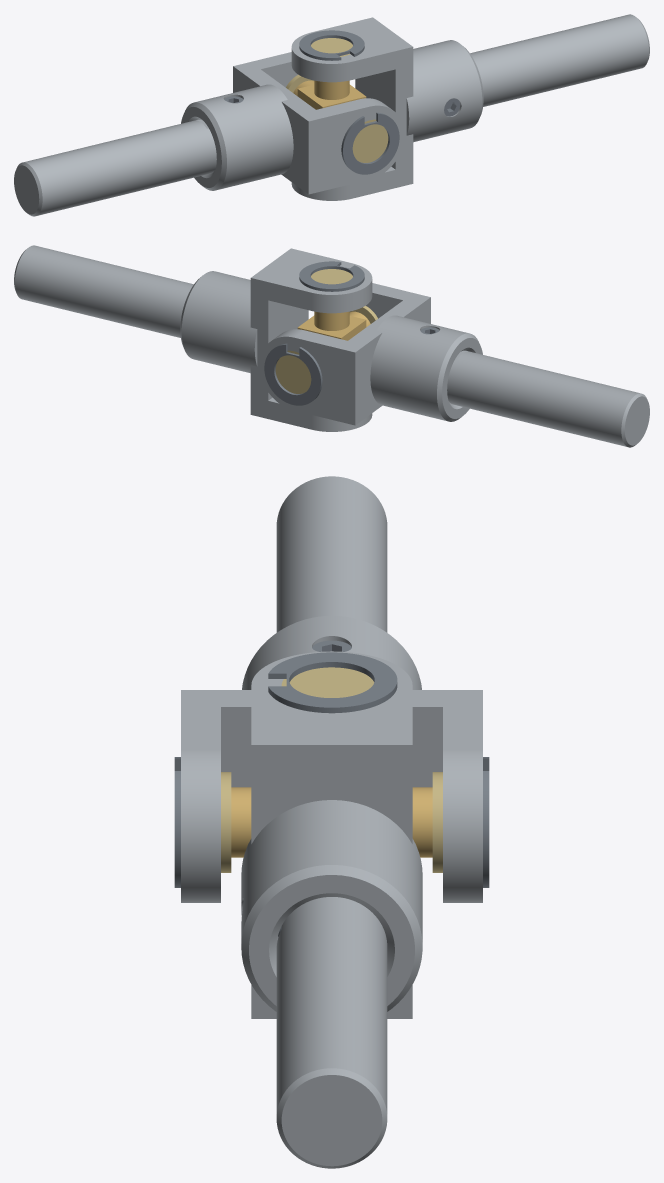
Rendered from step_19.glb.
The picture shows the model from 3 angles, top to bottom: view 1: azimuth 30°, elevation 25°; view 2: azimuth 150°, elevation 25°; view 3: azimuth 270°, elevation 25°; orthographic projection. The views are drawn at different scales.
Visible parts, largest first — view 1: part__input yoke, part__output yoke, part__input shaft, part__output shaft, part__circlip 2, part__cross (spider), part__circlip 3, part__cup 2, part__cup 3; view 2: part__input yoke, part__output yoke, part__input shaft, part__output shaft, part__circlip 1, part__cross (spider), part__circlip 3, part__cup 1, part__cup 3; view 3: part__output yoke, part__output shaft, part__input yoke, part__input shaft, part__circlip 3, part__cross (spider), part__cup 3, part__cup 1, part__cup 2.
Part boxes in pixels (x1=…): part__input yoke: x1=181, y1=52, x2=404, y2=194; part__output yoke: x1=291, y1=17, x2=483, y2=200; part__input shaft: x1=14, y1=119, x2=216, y2=216; part__output shaft: x1=470, y1=14, x2=649, y2=106; part__circlip 2: x1=341, y1=112, x2=399, y2=174; part__cross (spider): x1=293, y1=80, x2=366, y2=109; part__circlip 3: x1=299, y1=30, x2=364, y2=60; part__cup 2: x1=352, y1=119, x2=388, y2=162; part__cup 3: x1=311, y1=38, x2=352, y2=56; part__input yoke: x1=259, y1=283, x2=482, y2=425; part__output yoke: x1=180, y1=248, x2=372, y2=431; part__input shaft: x1=447, y1=350, x2=649, y2=447; part__output shaft: x1=14, y1=245, x2=193, y2=337; part__circlip 1: x1=264, y1=343, x2=322, y2=405; part__cross (spider): x1=297, y1=311, x2=370, y2=340; part__circlip 3: x1=299, y1=261, x2=364, y2=291; part__cup 1: x1=275, y1=350, x2=311, y2=393; part__cup 3: x1=311, y1=269, x2=352, y2=284; part__output yoke: x1=241, y1=651, x2=422, y2=1018; part__output shaft: x1=276, y1=897, x2=387, y2=1168; part__input yoke: x1=181, y1=615, x2=482, y2=902; part__input shaft: x1=276, y1=476, x2=387, y2=632; part__circlip 3: x1=268, y1=652, x2=397, y2=713; part__cross (spider): x1=231, y1=787, x2=432, y2=857; part__cup 3: x1=281, y1=667, x2=374, y2=697; part__cup 1: x1=432, y1=772, x2=442, y2=872; part__cup 2: x1=221, y1=772, x2=231, y2=872.
Size of the model in its own units: 280 by 62.4 by 62.4.
